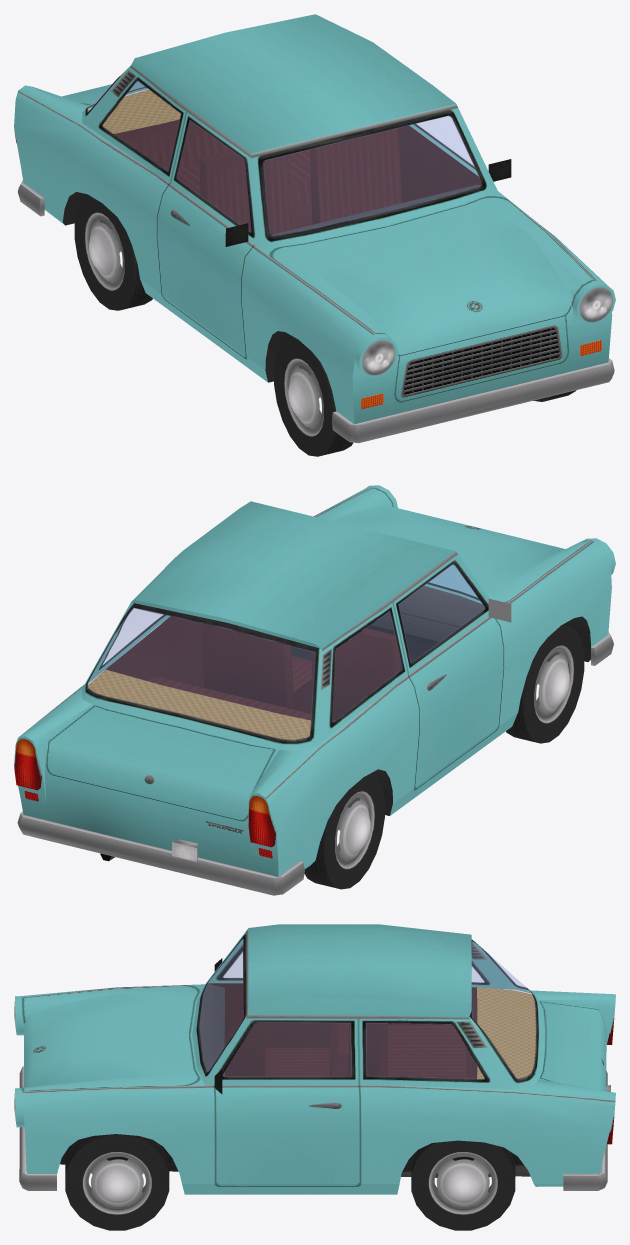
3 views of the same model, one above another, from view 1: azimuth 30°, elevation 25°; view 2: azimuth 150°, elevation 25°; view 3: azimuth 270°, elevation 25° (orthographic). The views are drawn at different scales.
Visible parts, largest first — view 1: BODY, INTERIOR, ADDON_0, WHEEL_0, WHEEL_2; view 2: BODY, INTERIOR, ADDON_0, WHEEL_0, WHEEL_2; view 3: BODY, INTERIOR, WHEEL_1, WHEEL_3, ADDON_0.
Part boxes in pixels (x1,y1,x2,y2): BODY: (14, 14, 615, 424); INTERIOR: (88, 89, 481, 235); ADDON_0: (18, 180, 614, 443); WHEEL_0: (274, 337, 352, 456); WHEEL_2: (74, 194, 152, 310); BODY: (14, 485, 615, 876); INTERIOR: (88, 586, 484, 739); ADDON_0: (17, 632, 613, 895); WHEEL_0: (506, 624, 584, 743); WHEEL_2: (304, 773, 384, 889); BODY: (14, 924, 615, 1194); INTERIOR: (199, 983, 535, 1079); WHEEL_1: (65, 1134, 169, 1230); WHEEL_3: (411, 1140, 515, 1230); ADDON_0: (19, 1066, 610, 1190).
Bounding box in the file's own units: 1.63 × 1.34 × 3.43.
Materials: 24 (24 with a texture image).
